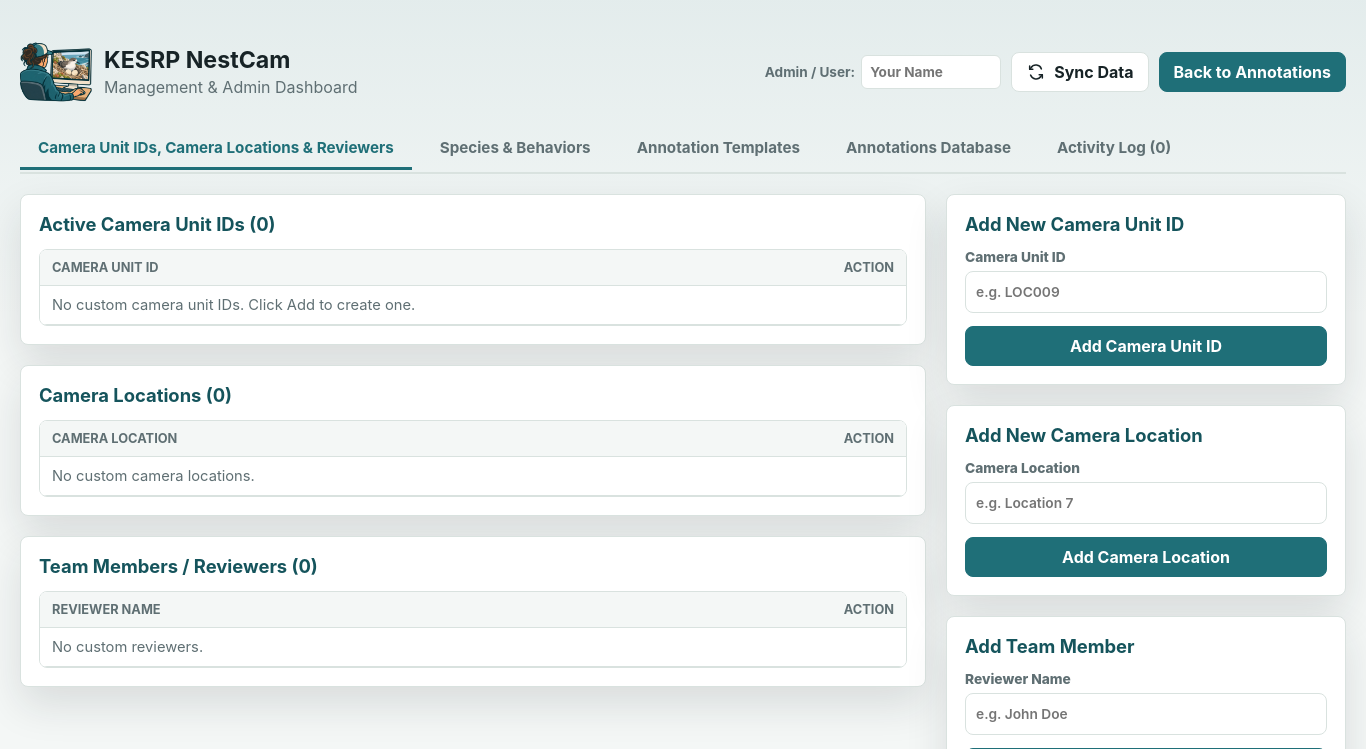
Scenario: ManagementDashboard › can switch to the Activity Log tab and view controls
The width and height of the screenshot is (1366, 749).
What coordinates should you click on to do the following:
click the button "Activity Log (0)"
I would click on:
 (1114, 149)
Its box is [1039,128,1189,170].
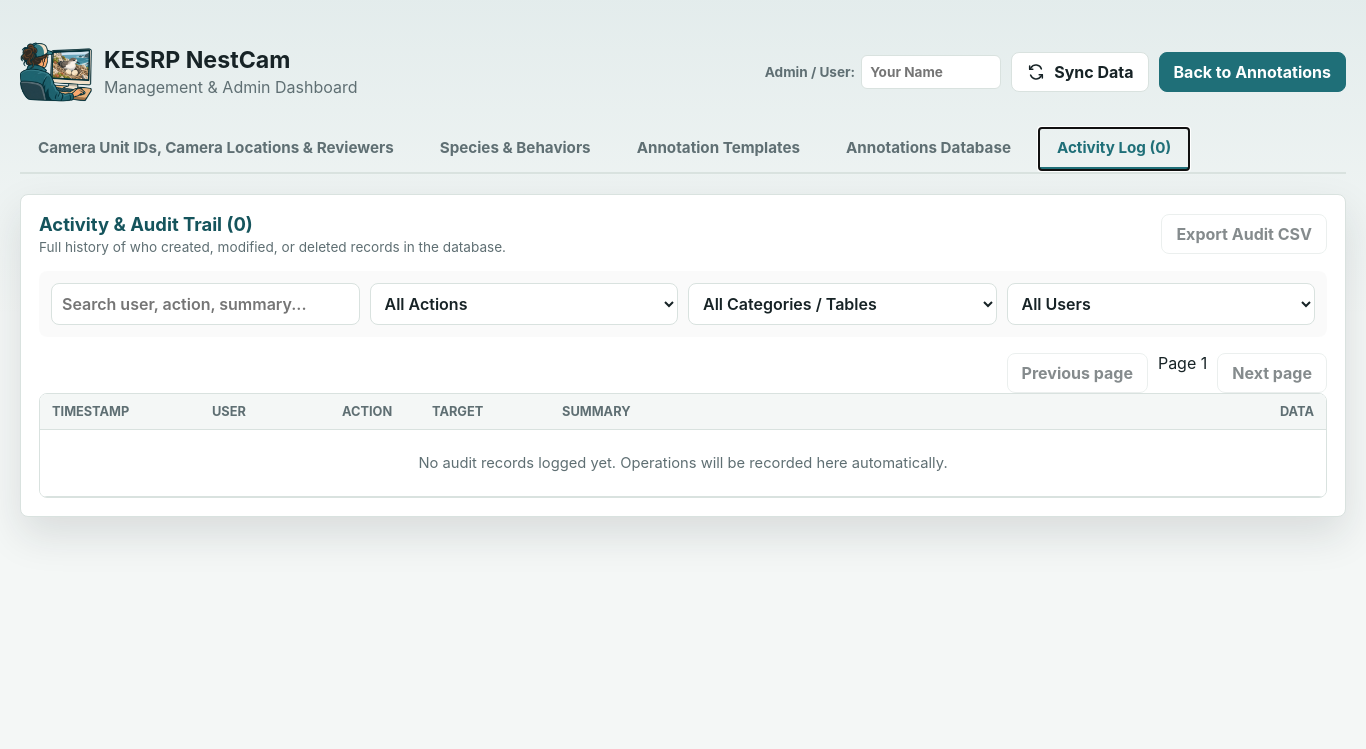
Check: the search field with placeholder "Search user, action, summary..." is shown, box [51,283,360,325]
Check: the button "Export Audit CSV" is shown, box [1161,214,1327,254]
